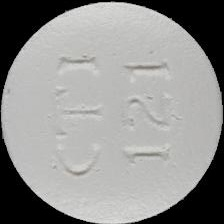33261-185: (0, 0, 224, 224)
